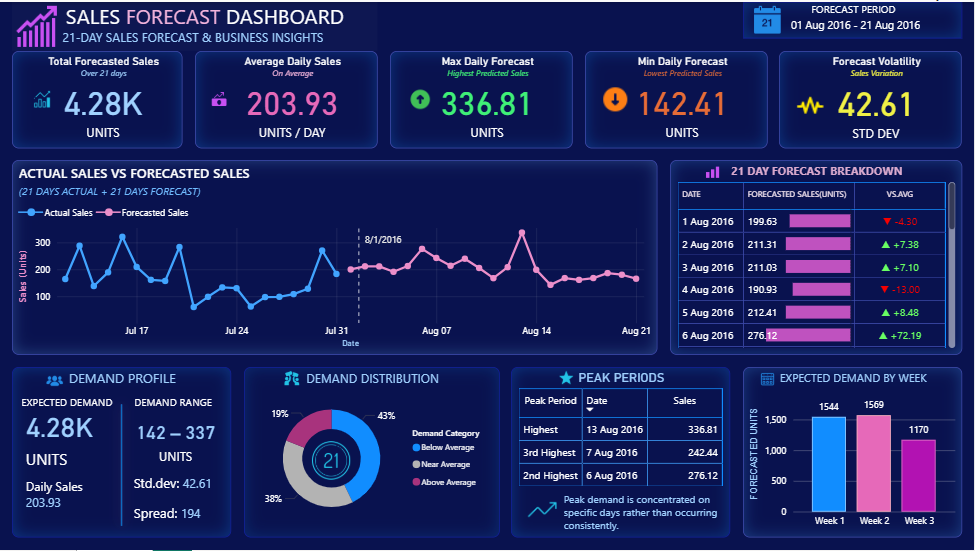

The dashboard page shown, as its layout file describes it:
{"tool":"powerbi","page":{"name":"Page 1","canvas":[1280,720],"ordinal":0},"visuals":[{"type":"card","title":"Total Forecasted Sales","fields":{"Values":["21_day_sales_forecast.total_sales"]},"box":[16,64,224,128],"z":0},{"type":"lineChart","title":"ACTUAL SALES VS FORECASTED SALES","fields":{"Category":["Sales Comparison.Date.Variation.Date Hierarchy.Year","Sales Comparison.Date.Variation.Date Hierarchy.Quarter","Sales Comparison.Date.Variation.Date Hierarchy.Month","Sales Comparison.Date.Variation.Date Hierarchy.Day"],"Y":["Sum(Sales Comparison.Actual Sales)","Sum(Sales Comparison.Forecasted Sales)"]},"box":[16,208,848,256],"z":1000},{"type":"tableEx","title":"21 DAY FORECAST BREAKDOWN","fields":{"Values":["21_day_sales_forecast.date","Sum(21_day_sales_forecast.predicted_sales)","21_day_sales_forecast.Forecast Variance Display"]},"box":[880,208,384,256],"z":2000},{"type":"cardVisual","title":"DEMAND PROFILE","fields":{"Data":["21_day_sales_forecast.total_sales","21_day_sales_forecast.Demand Range"]},"box":[16,480,288,224],"z":3000},{"type":"donutChart","title":"DEMAND DISTRIBUTION","fields":{"Y":["CountNonNull(21_day_sales_forecast.date)"],"Category":["21_day_sales_forecast.Demand_Category"]},"box":[320,480,336,224],"z":4000},{"type":"tableEx","title":"PEAK PERIODS","fields":{"Values":["21_day_sales_forecast.Peak Period","21_day_sales_forecast.date","21_day_sales_forecast.predicted_sales"]},"box":[672,480,288,224],"z":5000},{"type":"columnChart","title":"EXPECTED DEMAND BY WEEK","fields":{"Y":["Sum(21_day_sales_forecast.predicted_sales)"],"Category":["21_day_sales_forecast.Week"]},"box":[976,480,288,224],"z":6000},{"type":"card","title":"Average Daily Sales","fields":{"Values":["21_day_sales_forecast.avg_sales"]},"box":[256,64,240,128],"z":7000},{"type":"card","title":"Max Daily Forecast","fields":{"Values":["21_day_sales_forecast.max_sales"]},"box":[512,64,240,128],"z":8000},{"type":"card","title":"Min Daily Forecast","fields":{"Values":["21_day_sales_forecast.min_sales"]},"box":[768,64,240,128],"z":9000},{"type":"card","title":"Forecast Volatility","fields":{"Values":["21_day_sales_forecast.dev_sales"]},"box":[1024,64,240,128],"z":10000},{"type":"image","box":[32,112,48,32],"z":11000},{"type":"image","box":[272,112,32,32],"z":12000},{"type":"image","box":[784,96,48,64],"z":13000},{"type":"image","box":[528,96,48,64],"z":14000},{"type":"image","box":[1040,112,48,48],"z":15000},{"type":"image","box":[912,208,48,32],"z":16000},{"type":"image","box":[960,480,96,32],"z":17000},{"type":"image","box":[720,480,48,28],"z":18000},{"type":"image","box":[688,640,48,48],"z":19000},{"type":"image","box":[377,562,115,80],"z":20000},{"type":"image","box":[350,476,68,38],"z":21000},{"type":"textbox","box":[736,640,224,64],"z":22000},{"type":"textbox","title":"SALES FORECAST DASHBOARD","box":[16,0,480,64],"z":23000},{"type":"image","box":[16,0,64,64],"z":24000},{"type":"textbox","title":"   FORECAST PERIOD","box":[976,0,288,48],"z":25000},{"type":"image","box":[976,0,64,48],"z":26000},{"type":"image","box":[32,480,80,35],"z":27000},{"type":"shape","box":[112,512,96,192],"z":28000},{"type":"textbox","box":[16,512,144,32],"z":28001},{"type":"textbox","box":[160,512,144,32],"z":28002}]}

Visuals, with their boxes in screenshot pixels (x1, y1, x2, y2), scaled from the page's 1280x720 canvas onto the 975x551 screenshot:
"Total Forecasted Sales" card: bbox(12, 49, 183, 147)
"ACTUAL SALES VS FORECASTED SALES" lineChart: bbox(12, 159, 658, 355)
"21 DAY FORECAST BREAKDOWN" tableEx: bbox(670, 159, 963, 355)
"DEMAND PROFILE" cardVisual: bbox(12, 367, 232, 539)
"DEMAND DISTRIBUTION" donutChart: bbox(244, 367, 500, 539)
"PEAK PERIODS" tableEx: bbox(512, 367, 731, 539)
"EXPECTED DEMAND BY WEEK" columnChart: bbox(743, 367, 963, 539)
"Average Daily Sales" card: bbox(195, 49, 378, 147)
"Max Daily Forecast" card: bbox(390, 49, 573, 147)
"Min Daily Forecast" card: bbox(585, 49, 768, 147)
"Forecast Volatility" card: bbox(780, 49, 963, 147)
image: bbox(24, 86, 61, 110)
image: bbox(207, 86, 232, 110)
image: bbox(597, 73, 634, 122)
image: bbox(402, 73, 439, 122)
image: bbox(792, 86, 829, 122)
image: bbox(695, 159, 731, 184)
image: bbox(731, 367, 804, 392)
image: bbox(548, 367, 585, 389)
image: bbox(524, 490, 561, 527)
image: bbox(287, 430, 375, 491)
image: bbox(267, 364, 318, 393)
textbox: bbox(561, 490, 731, 539)
"SALES FORECAST DASHBOARD" textbox: bbox(12, 0, 378, 49)
image: bbox(12, 0, 61, 49)
"   FORECAST PERIOD" textbox: bbox(743, 0, 963, 37)
image: bbox(743, 0, 792, 37)
image: bbox(24, 367, 85, 394)
shape: bbox(85, 392, 158, 539)
textbox: bbox(12, 392, 122, 416)
textbox: bbox(122, 392, 232, 416)
